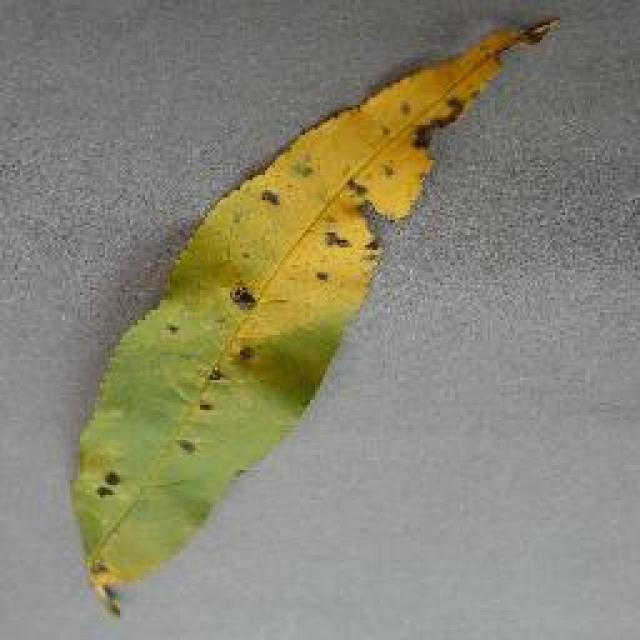Peach_Bacterial_Spot: (208, 98, 372, 500)
